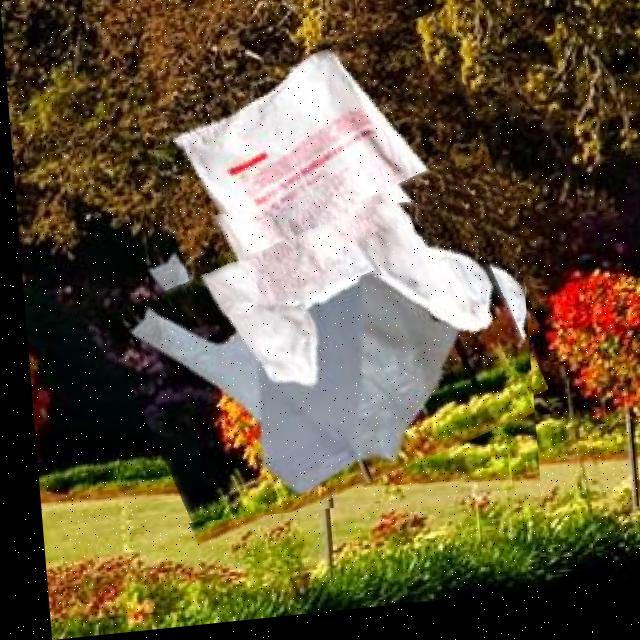plasticcover: (148, 32, 521, 428), (103, 190, 531, 531)
